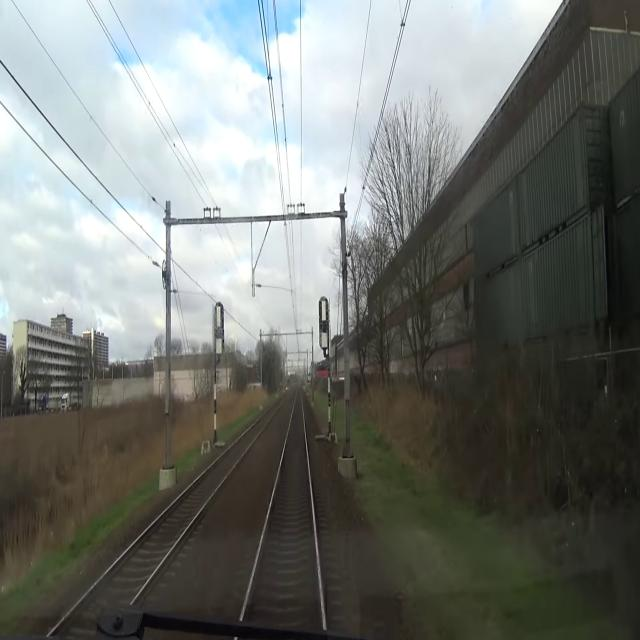rail-track: (50, 413, 270, 639), (244, 394, 321, 629)
